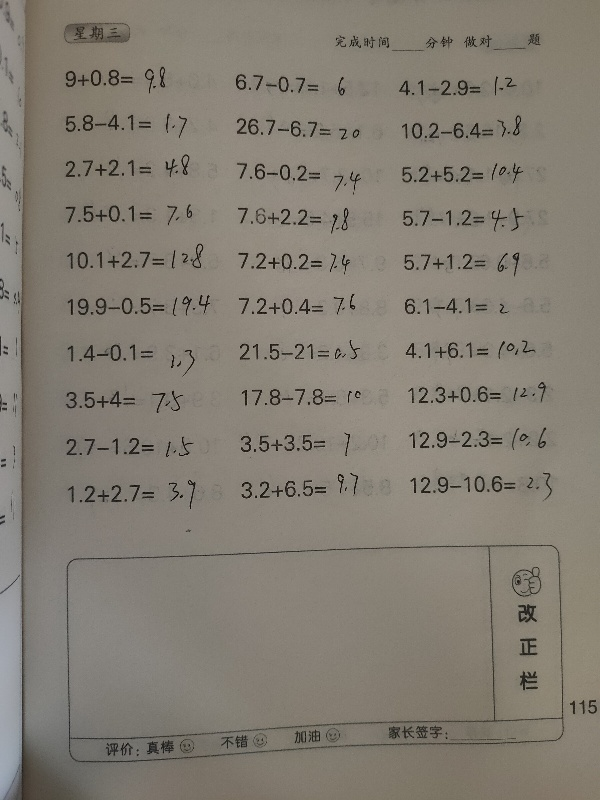equation: (59, 472, 203, 520), (63, 336, 205, 379), (397, 244, 535, 288), (59, 104, 196, 147), (60, 388, 204, 427), (231, 156, 367, 196), (229, 469, 379, 505), (233, 288, 376, 324), (408, 472, 567, 504), (407, 425, 548, 459), (64, 240, 208, 273), (59, 432, 205, 464), (232, 427, 357, 464), (233, 249, 363, 283), (399, 205, 527, 239), (55, 153, 200, 183), (236, 203, 356, 239), (64, 292, 213, 320), (404, 378, 549, 406), (399, 159, 543, 187), (62, 201, 196, 229), (61, 64, 170, 98), (236, 336, 364, 364), (398, 115, 526, 143), (401, 338, 538, 363), (395, 73, 520, 100), (232, 116, 363, 141), (238, 385, 365, 410), (231, 71, 348, 97), (401, 295, 513, 319)
